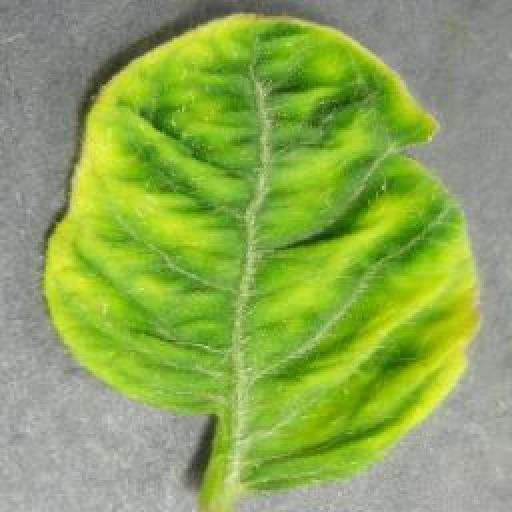disease_tomato: (42, 7, 478, 489)
